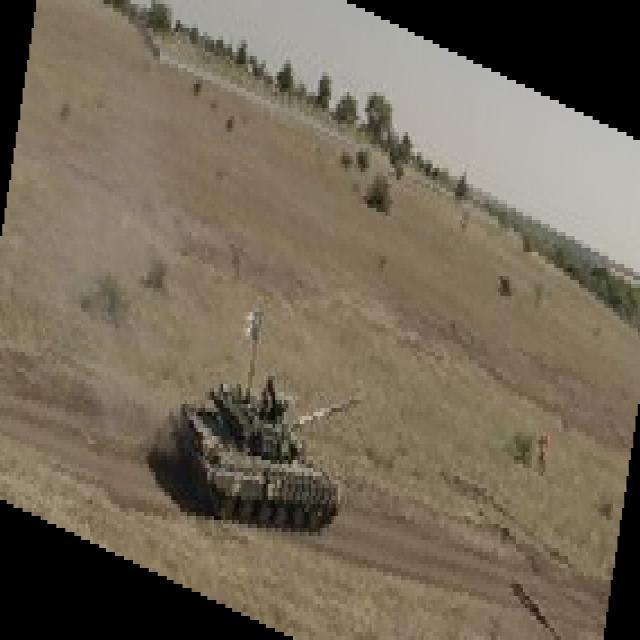MIL_MBT: (174, 374, 360, 534)
